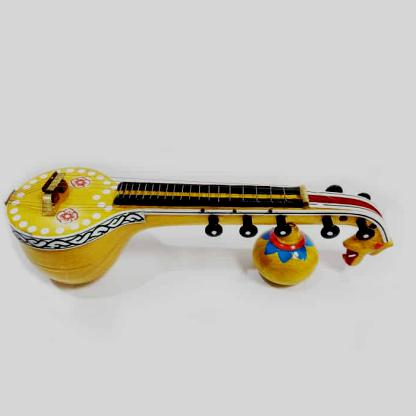Veena: (4, 157, 403, 291)
